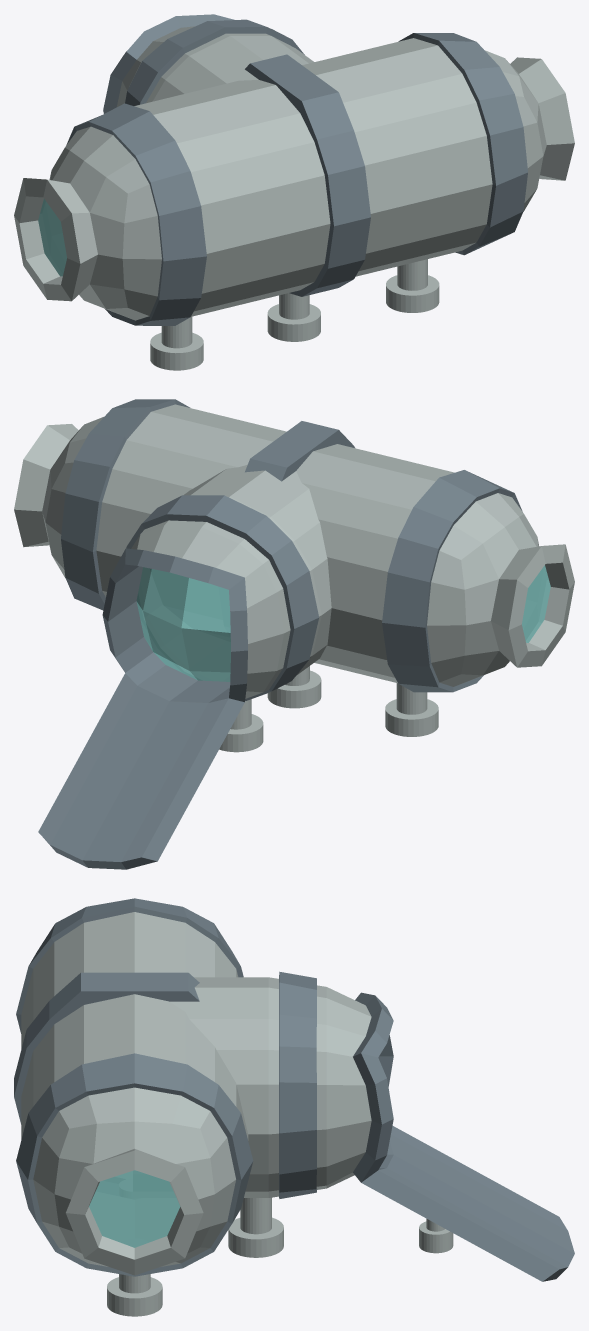
The model's file is Hab 2.fbx.
3 renders of one model, top to bottom at view 1: azimuth 30°, elevation 25°; view 2: azimuth 150°, elevation 25°; view 3: azimuth 270°, elevation 25°, orthographic. The views are drawn at different scales.
Parts seen in each view (by area): view 1: Habitat; view 2: Habitat; view 3: Habitat.
Boxes of the visible parts, x1,y1,x2,y2 form: Habitat: (14,14,574,370); Habitat: (14,399,574,869); Habitat: (14,898,574,1316).
Bounding box in the file's own units: 839 × 439 × 781.
